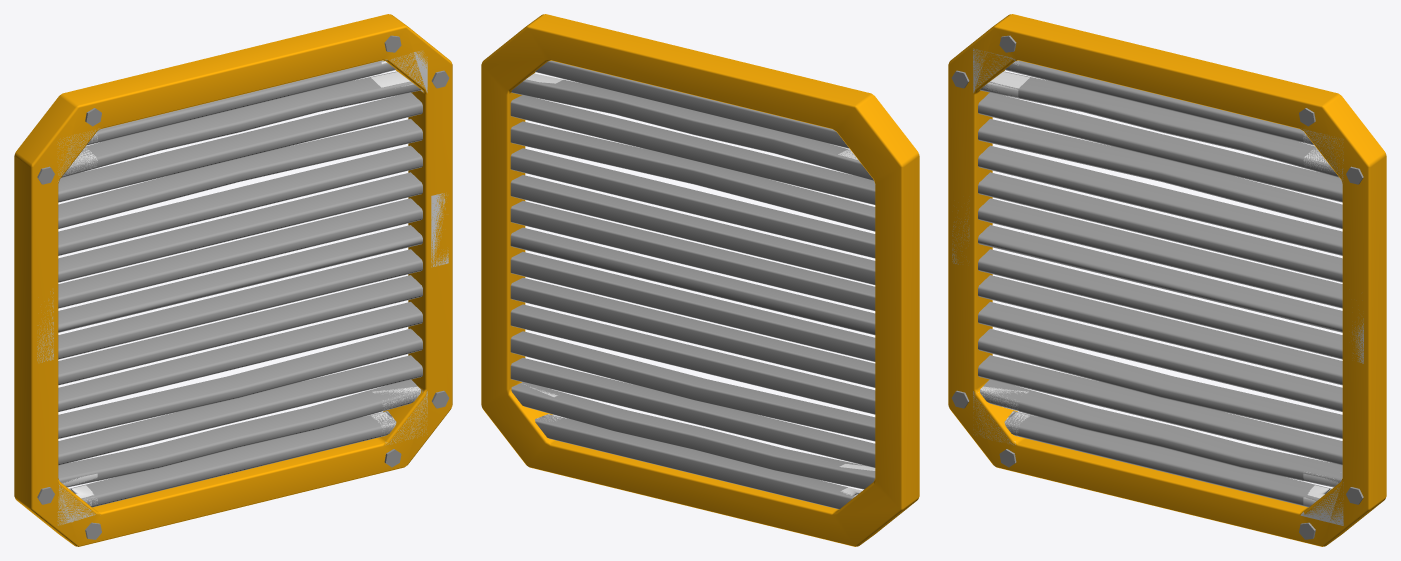
Rendered from VentCover.fbx.
3 views of the same model, side by side, from view 1: azimuth 30°, elevation 25°; view 2: azimuth 150°, elevation 25°; view 3: azimuth 330°, elevation 25° (orthographic).
Parts seen in each view (by area): view 1: Cube.050, StylizedHardSurface_Decals_048.003_projected, Cube.055, StylizedHardSurface_Decals_058.002_projected; view 2: Cube.050, StylizedHardSurface_Decals_048.003_projected; view 3: Cube.050, StylizedHardSurface_Decals_048.003_projected, Cube.055.
Boxes of the visible parts, x1,y1,x2,y2 form: Cube.050: (14,14,452,546); StylizedHardSurface_Decals_048.003_projected: (57,51,427,525); Cube.055: (37,35,449,539); StylizedHardSurface_Decals_058.002_projected: (37,193,448,362); Cube.050: (481,14,919,546); StylizedHardSurface_Decals_048.003_projected: (524,73,875,496); Cube.050: (948,14,1386,546); StylizedHardSurface_Decals_048.003_projected: (973,48,1343,525); Cube.055: (951,35,1363,539).
Bounding box in the file's own units: 138 × 138 × 11.21.
